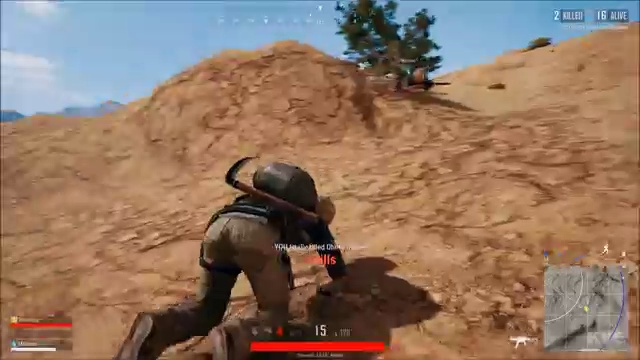Player: (184, 145, 356, 270)
